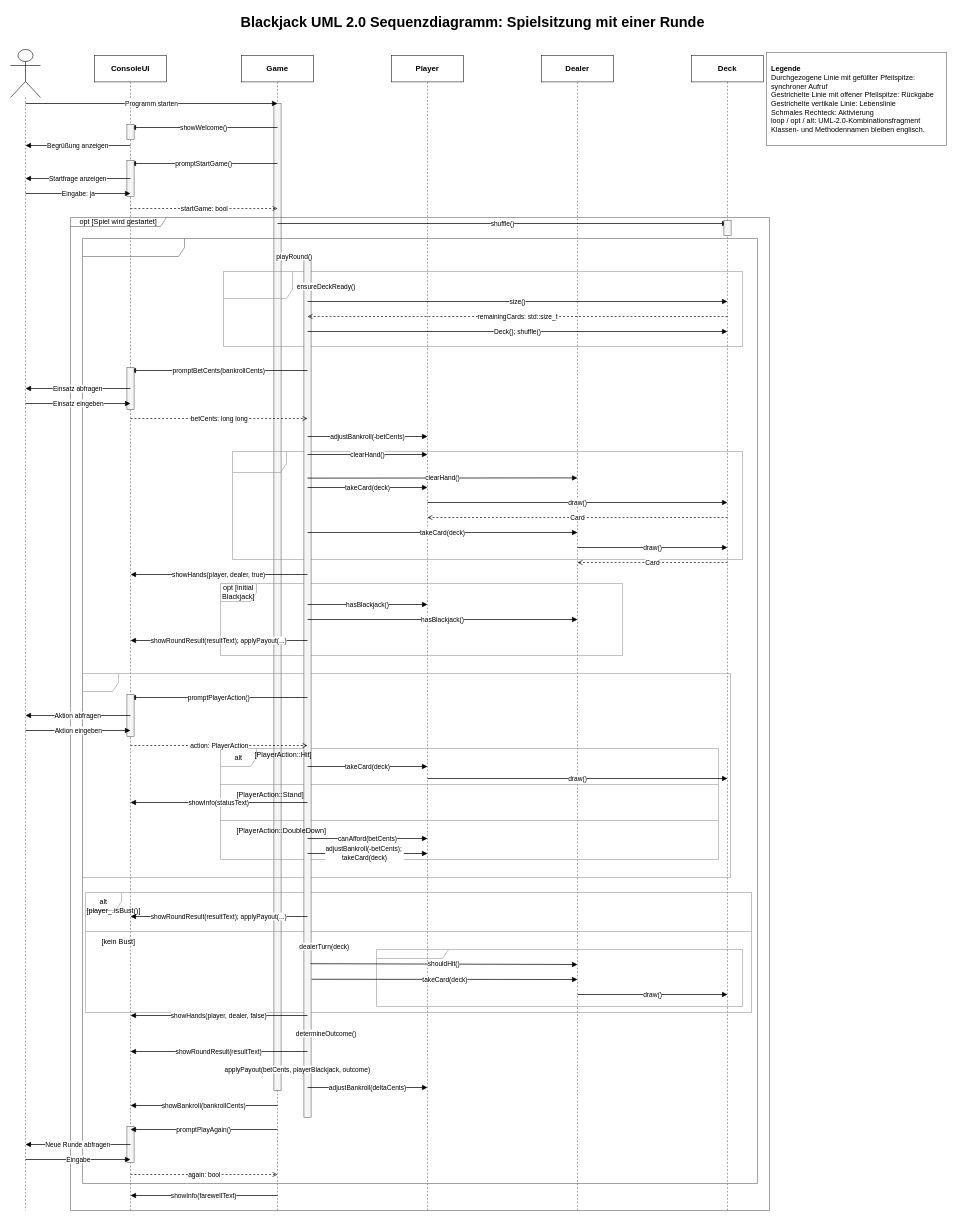
Some shapes in this 957 by 1222 pixel diagram are drawn without their labels. The shapes that lost their labels are listed below. From the top down, each one's box as (x1, y1, x2, y2) in pixels, then its label:
(10, 49, 40, 98): Spieler
(223, 271, 742, 346): opt [deck_.size( <= reshuffleWhen AtOrBelow_]
(232, 451, 742, 560): loop [2 Karten pro Teilnehmer]
(82, 238, 758, 1184): loop [again == true und bankrollCents() > 0]
(82, 673, 730, 878): loop [Spielerzug bis Stand, Double Down oder Bust]
(376, 949, 742, 1006): loop [dealer_.shouldHit()]
